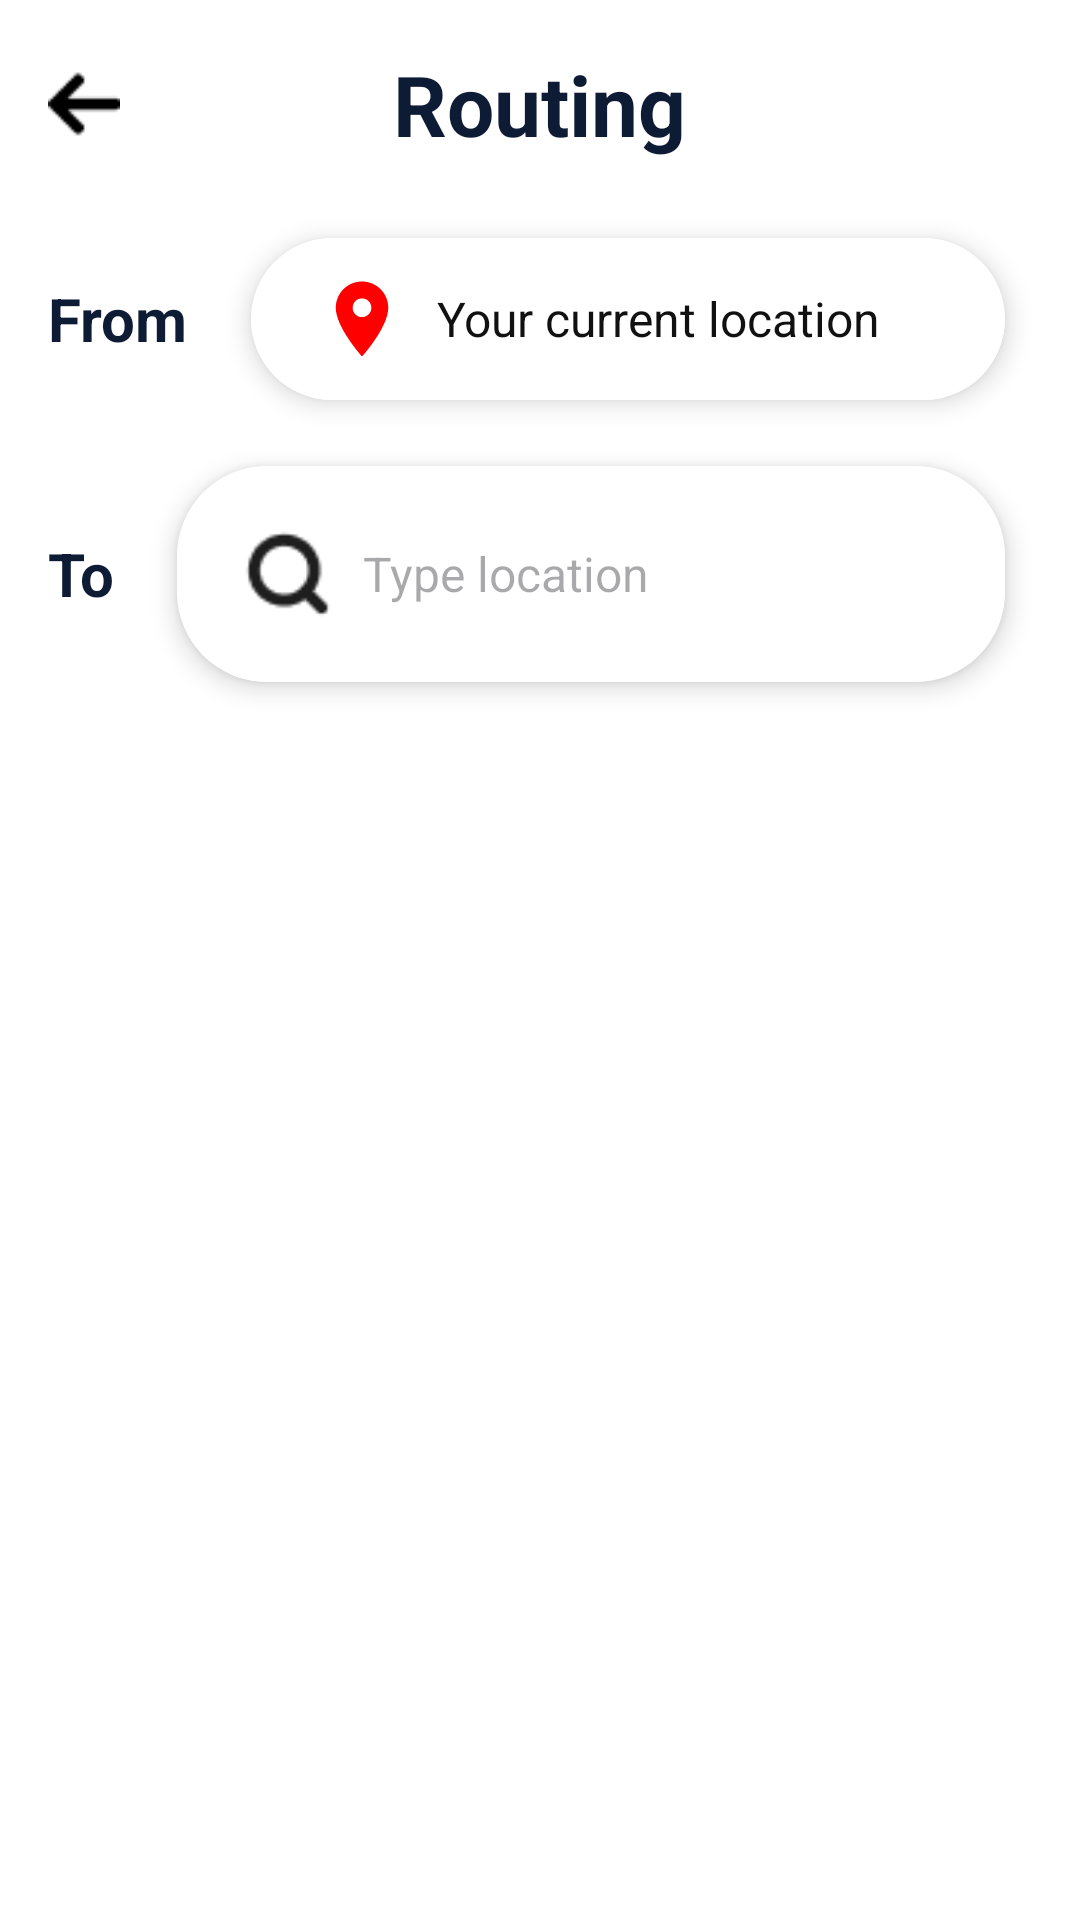

Screen size 1080 × 1920. Icon name, then its center in pixels as (x=x, y=y):
marker: (x=362, y=318)
search: (x=288, y=574)
